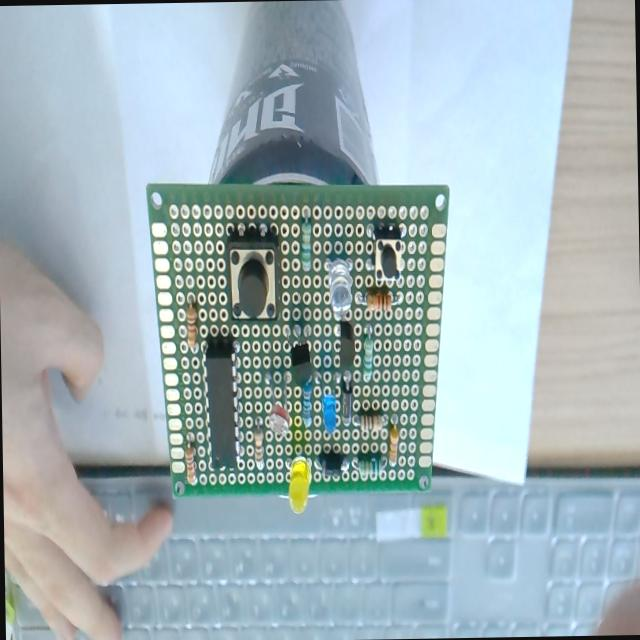IC: (205, 335, 238, 468)
cds: (264, 374, 288, 440)
diode: (315, 450, 348, 480), (340, 380, 352, 426)
led: (326, 259, 354, 319), (287, 456, 312, 514), (322, 391, 337, 434)
resistor: (358, 454, 383, 481), (300, 220, 312, 270), (366, 290, 391, 314), (185, 304, 198, 349), (362, 332, 374, 380), (184, 444, 197, 486), (360, 412, 382, 435), (301, 381, 312, 427), (252, 428, 264, 464), (388, 424, 398, 464)
switch: (228, 234, 280, 322), (373, 226, 402, 285)
transistor: (290, 342, 312, 387), (339, 322, 354, 374)
